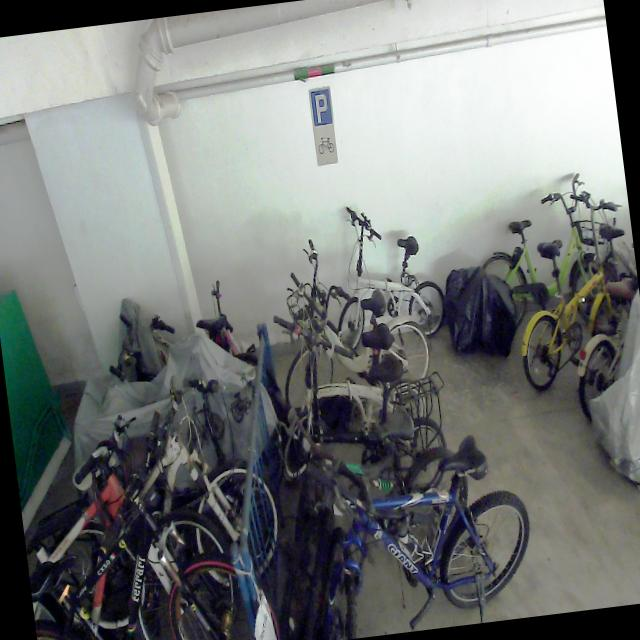bike: (38, 363, 289, 640), (10, 396, 283, 640), (273, 427, 540, 640), (11, 403, 243, 640), (272, 350, 454, 538), (266, 226, 434, 410), (265, 296, 433, 480), (470, 169, 630, 351), (503, 184, 640, 389), (323, 194, 449, 350)
